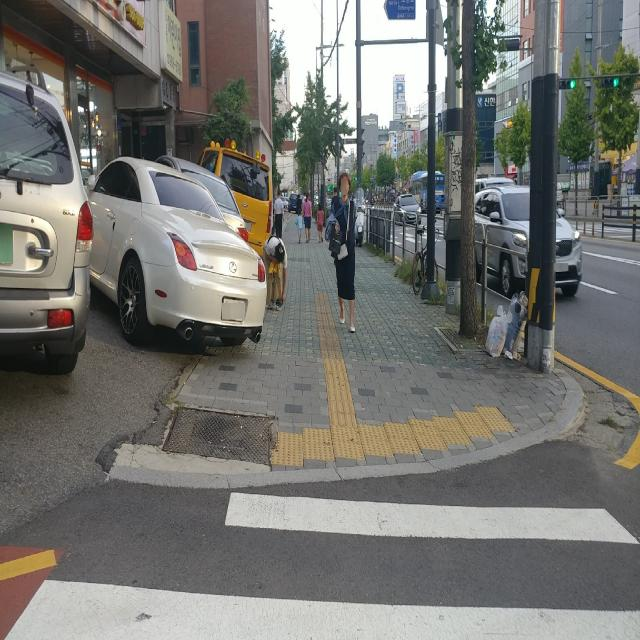횡단보도: (2, 488, 640, 640)
